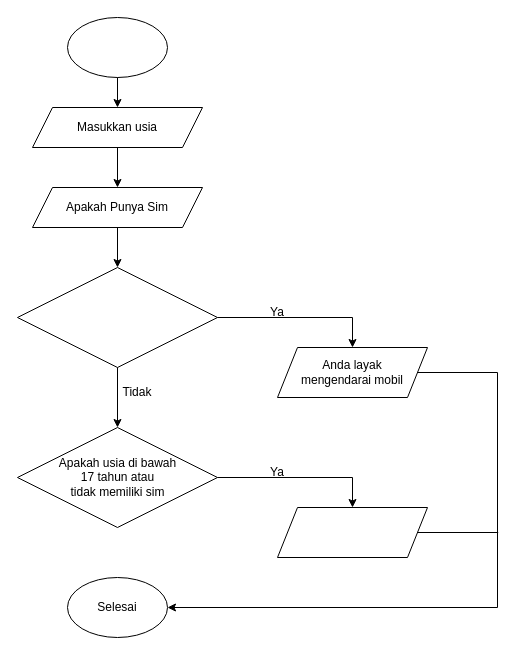
Image size: 523x655. Some labels were removed from this diagram. The shapes that lost their labels are listed below. From the top down, each one's centre as x and y in pixels, then its label:
point (117, 47): Mulai
point (117, 317): Apakah usia di atas 17 tahun dan memiliki sim
point (352, 532): Anda tidak layak mengendarai mobil
